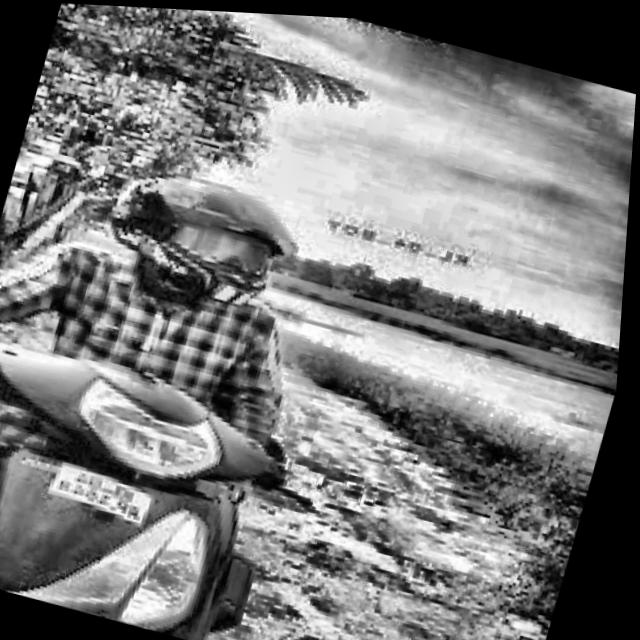motorcycle: (0, 313, 351, 640)
